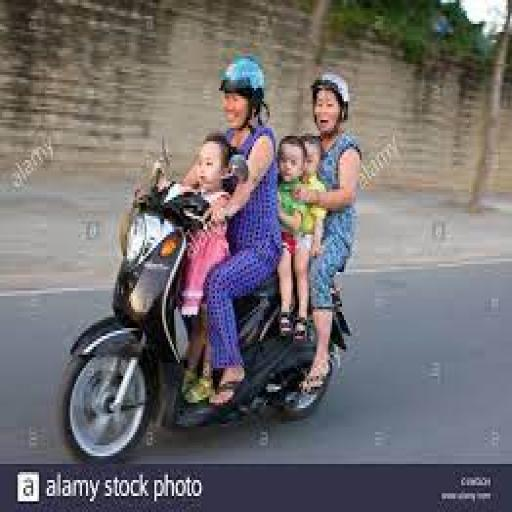helmet: (60, 136, 350, 459), (217, 53, 266, 99)
